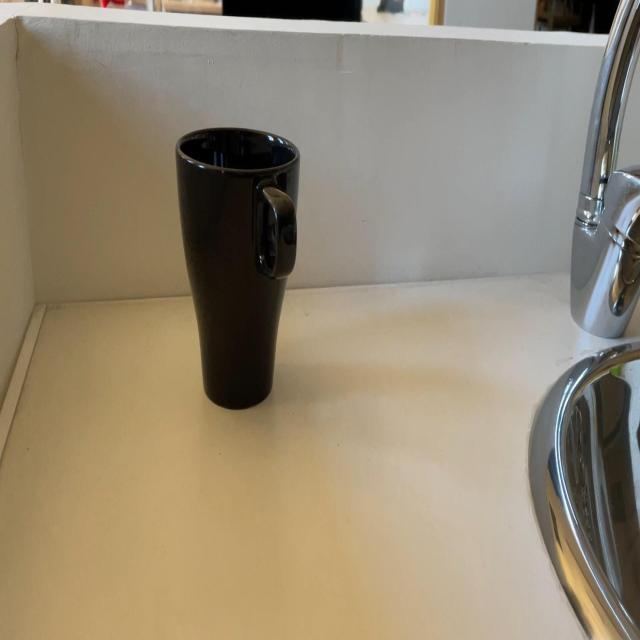cup: (175, 118, 301, 414)
